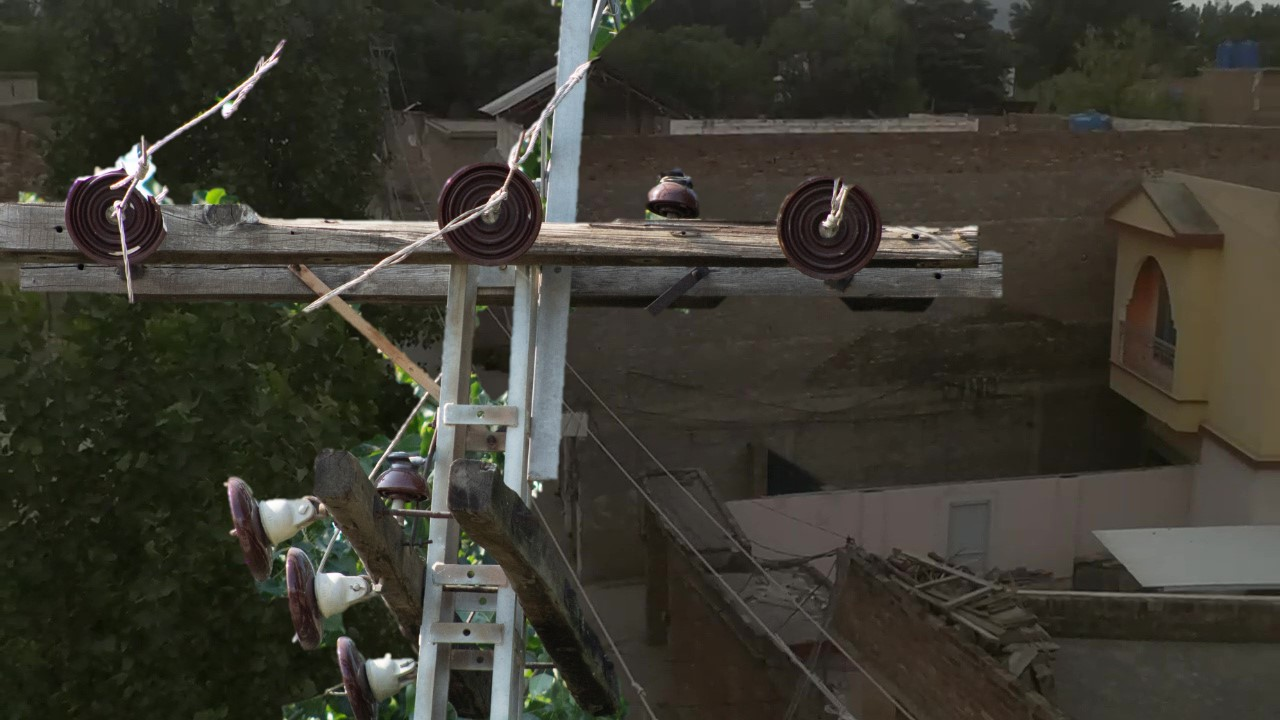defect_disc: (63, 156, 172, 266)
insulator_disc: (774, 170, 886, 287), (436, 159, 546, 269), (219, 468, 282, 589), (277, 551, 336, 660), (323, 640, 402, 710)
insulator_pin: (372, 445, 434, 506), (643, 165, 705, 220)
